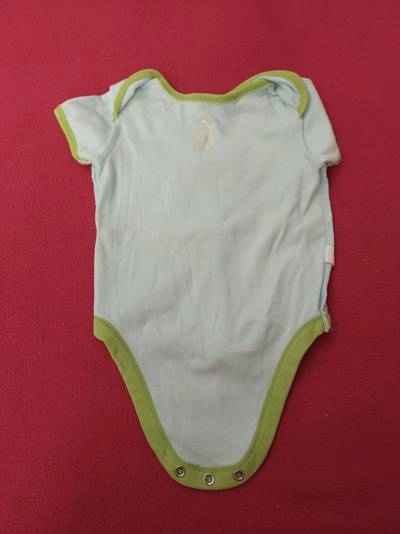Body: (34, 41, 346, 500)
